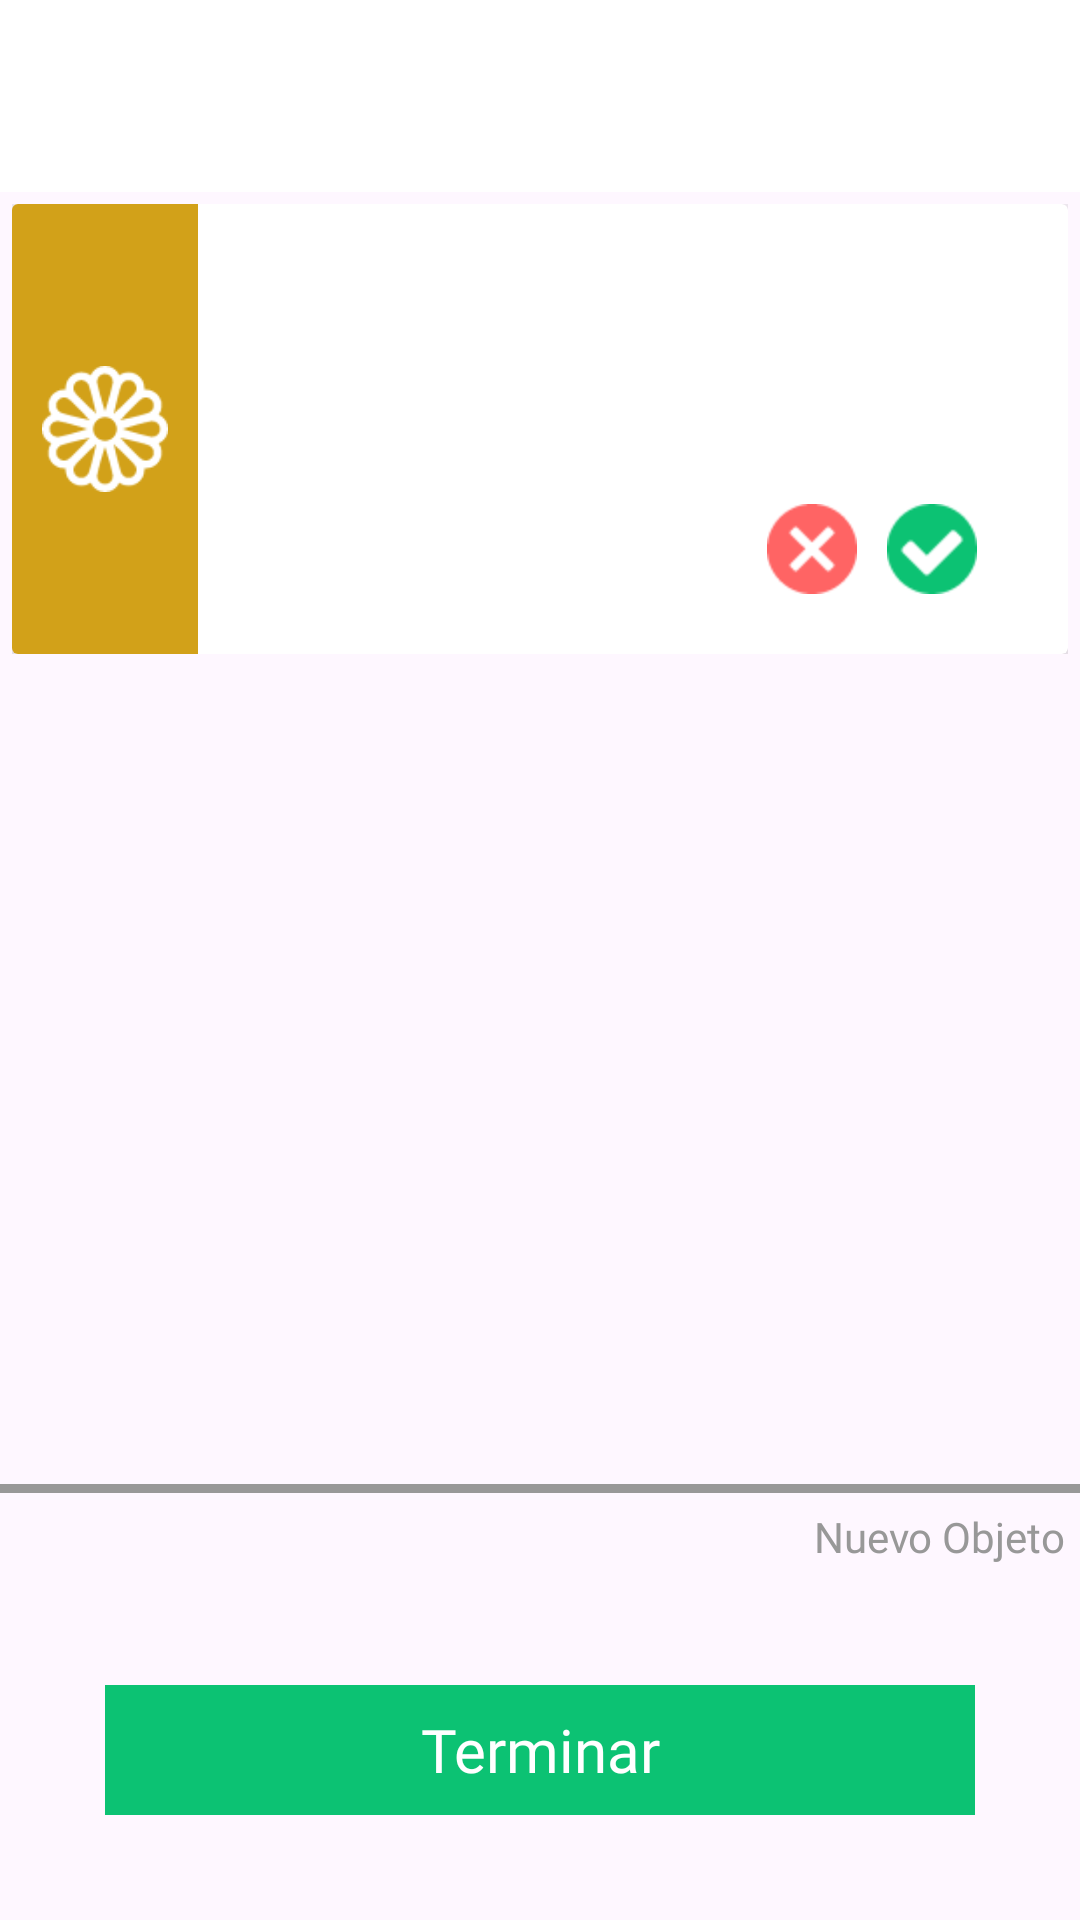

Locate icon controls on the screen. Image size 1080×1920, boxes as region(x1, y1, x2, y2).
check circle: region(887, 504, 977, 594)
close circled: region(767, 504, 857, 594)
